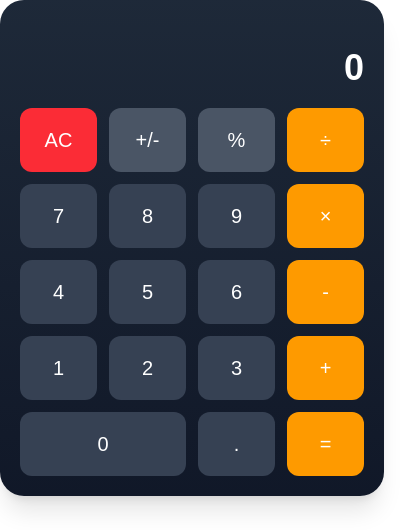
it: Calculator Component › performs multiplication correctly
The width and height of the screenshot is (401, 530).
# Input first number
Click the button "4": (58, 292) [20,260,97,324]
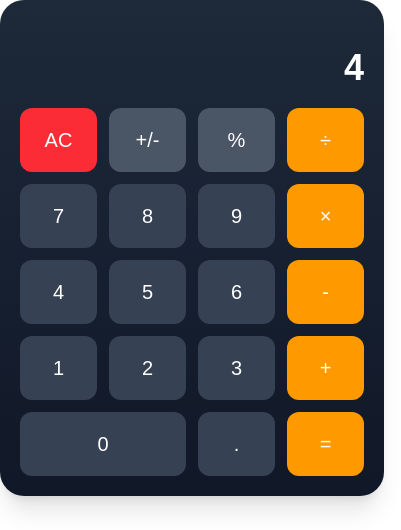
# Select operation
Click the button named "Multiply": (326, 216) [287,184,364,248]
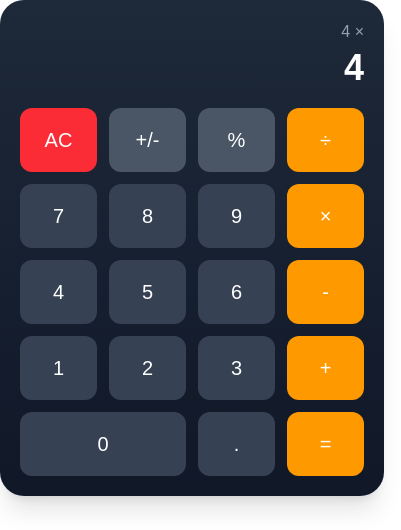
# Input second number
Click the button "5": (148, 292) [109,260,186,324]
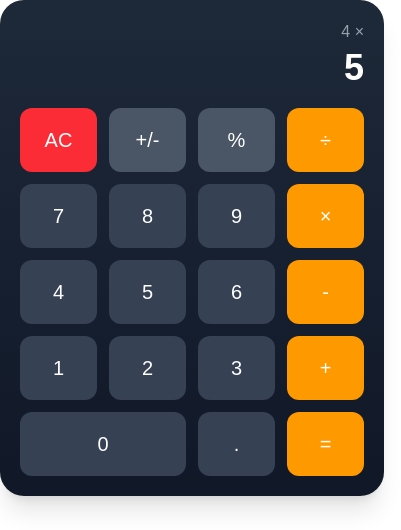
# Perform calculation
Click the button named "Equals": (326, 444) [287,412,364,476]
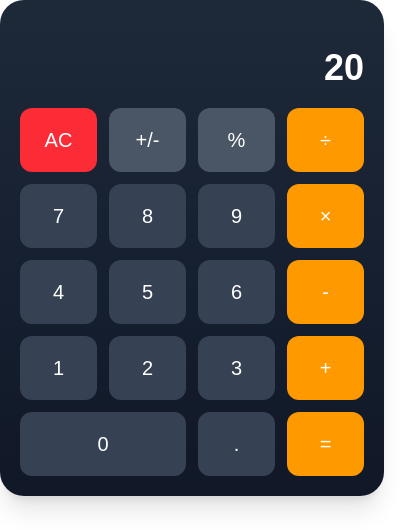
Check: the text with test id "display" reads "20", box [324,47,364,88]
